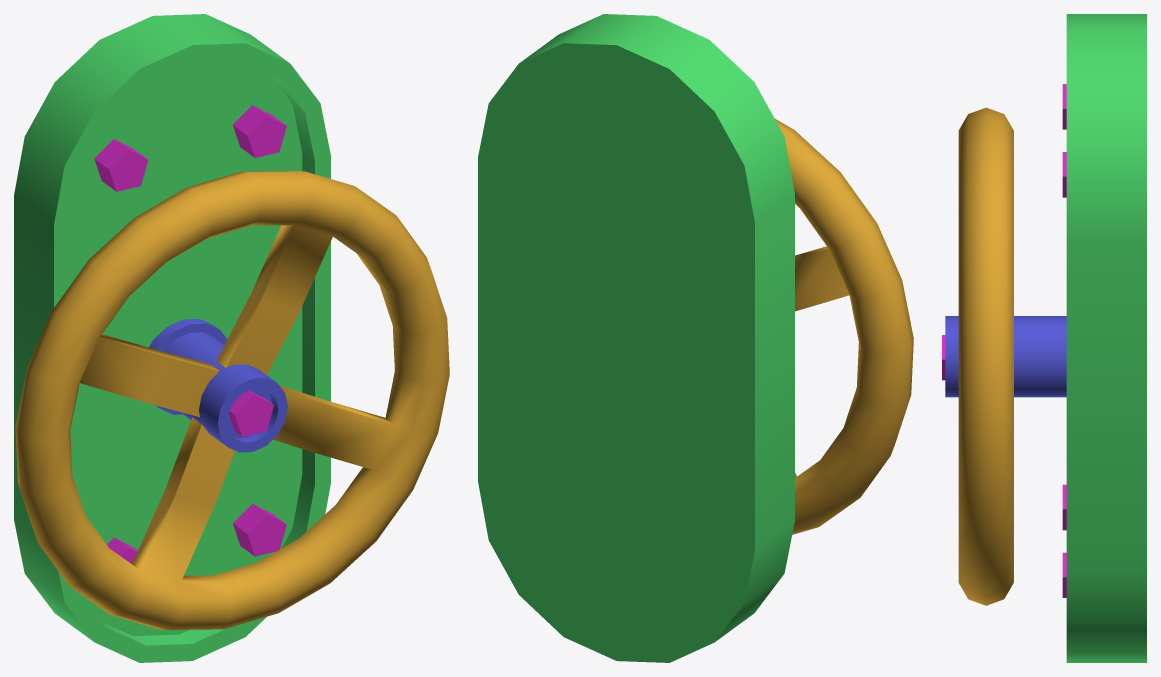
The model's file is Wall_valve.fbx.
3 renders of one model, left to right at view 1: azimuth 30°, elevation 25°; view 2: azimuth 150°, elevation 25°; view 3: azimuth 270°, elevation 25°, orthographic.
Parts seen in each view (by area): view 1: Cylinder; view 2: Cylinder; view 3: Cylinder.
Part boxes in pixels (left/top/right/bottom): Cylinder: left=14, top=14, right=449, bottom=662; Cylinder: left=478, top=14, right=913, bottom=662; Cylinder: left=942, top=14, right=1146, bottom=662.
Bounding box in the file's own units: 44.48 × 61.2 × 18.36.
